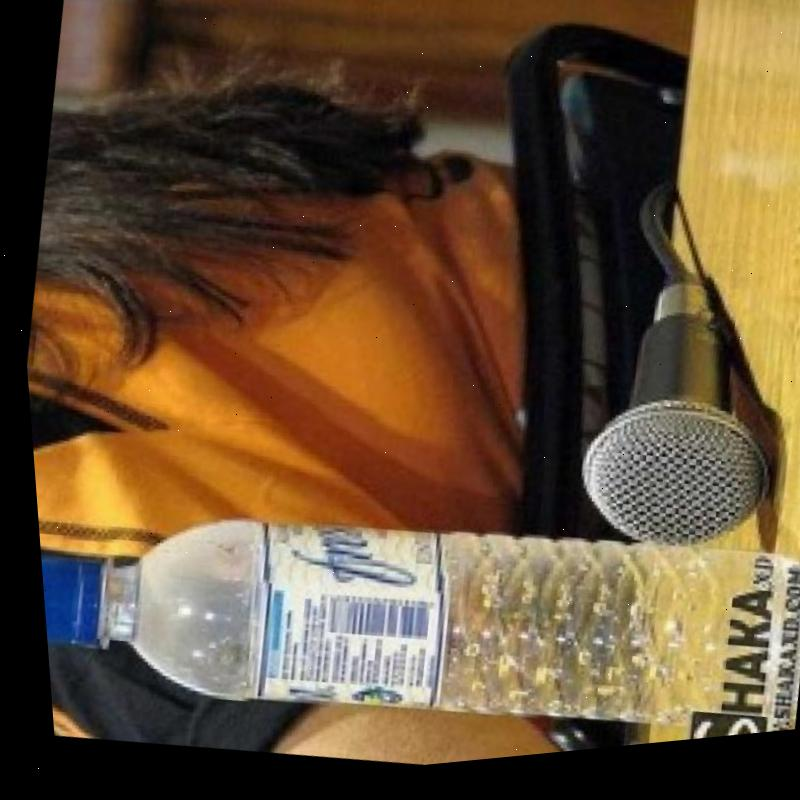botella: (29, 436, 800, 800)
